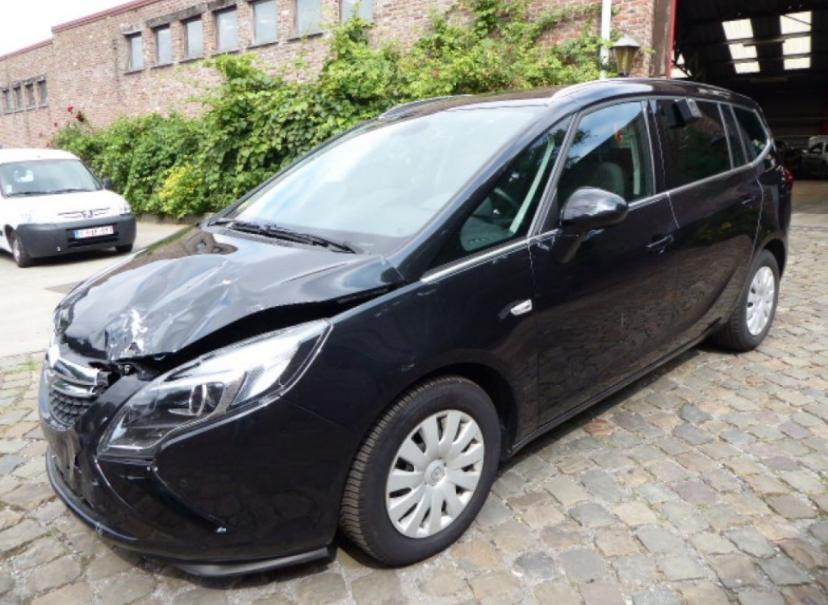Back-door: (651, 96, 764, 350)
Back-wheel: (712, 249, 780, 351)
Back-window: (658, 98, 729, 185), (734, 108, 767, 162), (722, 106, 745, 167)
Fender: (278, 237, 540, 445)
Front-bumper: (38, 374, 362, 577)
Front-door: (530, 97, 679, 426)
Front-wheel: (337, 375, 501, 567)
Front-window: (416, 118, 569, 276), (540, 97, 653, 234)
Grille: (39, 337, 118, 426)
Headlight: (97, 319, 331, 461)
Hood: (55, 222, 403, 369)
Mirror: (550, 187, 628, 263)
Quarter-panel: (751, 145, 792, 253)
Rocker-panel: (508, 234, 788, 460)
Roof: (385, 80, 619, 118)
Windshield: (218, 107, 547, 254)
